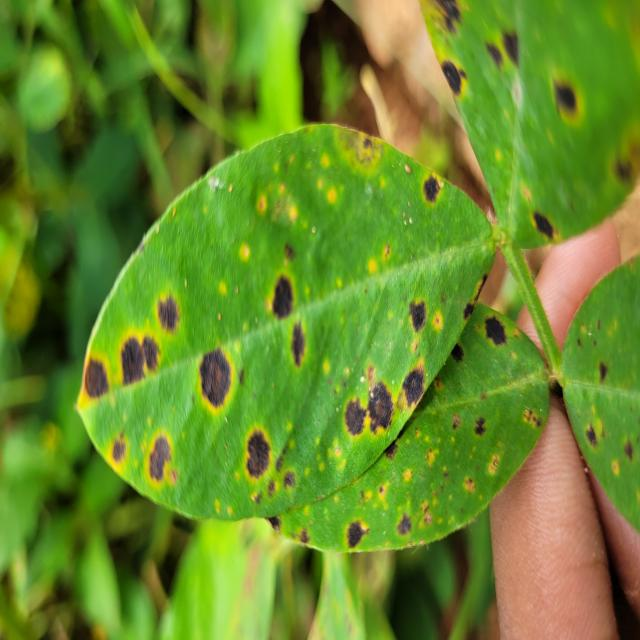Ground nut_tikka leaf spot: (78, 116, 492, 521)
